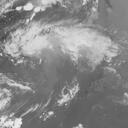cyclone: (35, 23, 101, 67)
